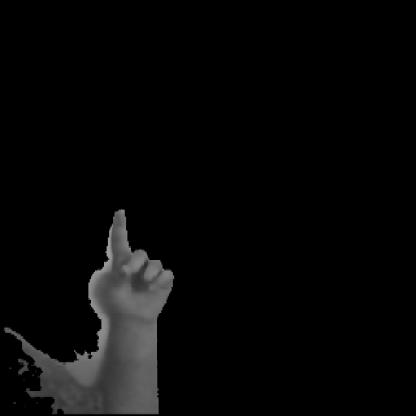one: (53, 182, 213, 354)
